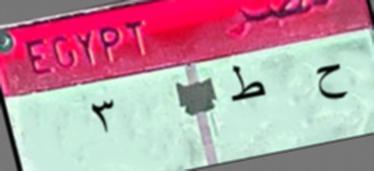3: (87, 91, 121, 147)
7aa: (312, 57, 348, 107)
Taa: (226, 54, 268, 116)
